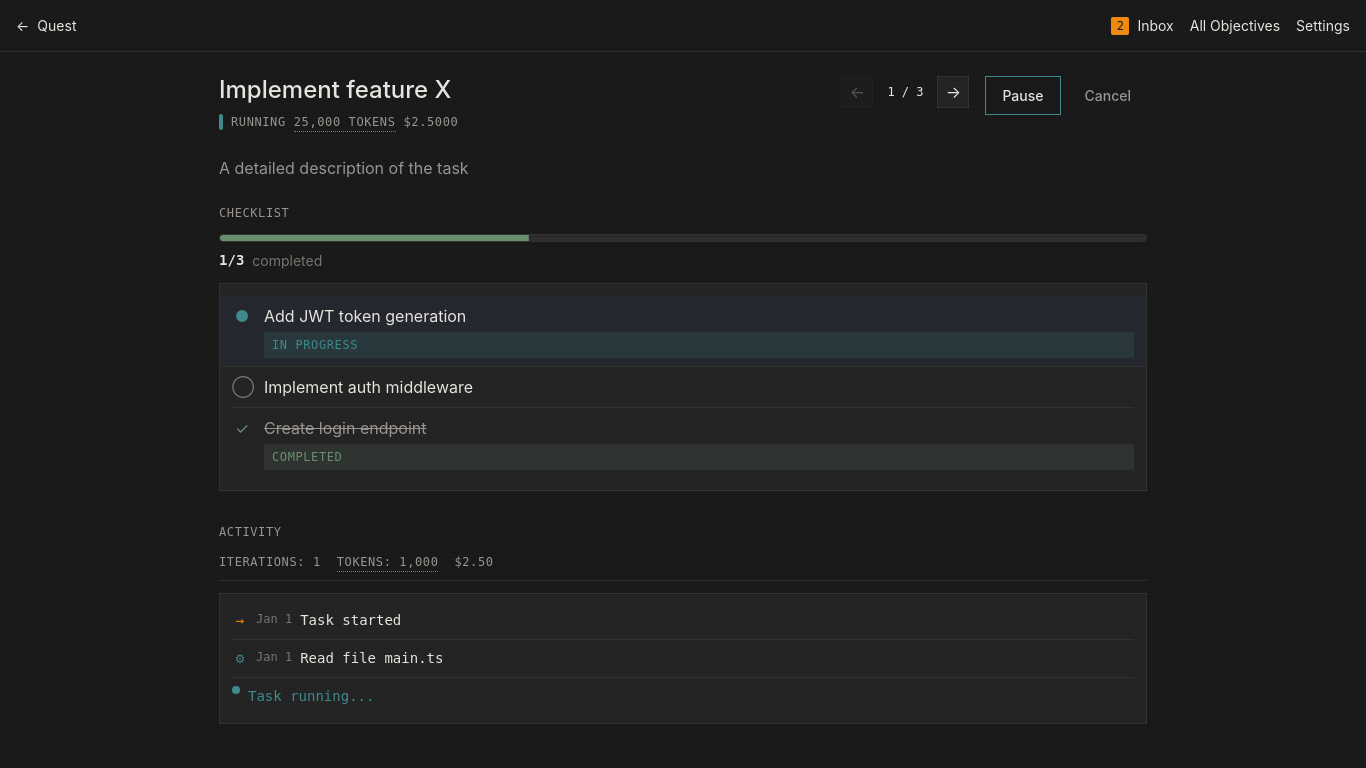
Test: ObjectiveDetail › task actions › shows success toast after pause
Click the button "Pause" at (1023, 96), box [986,76,1061,115]
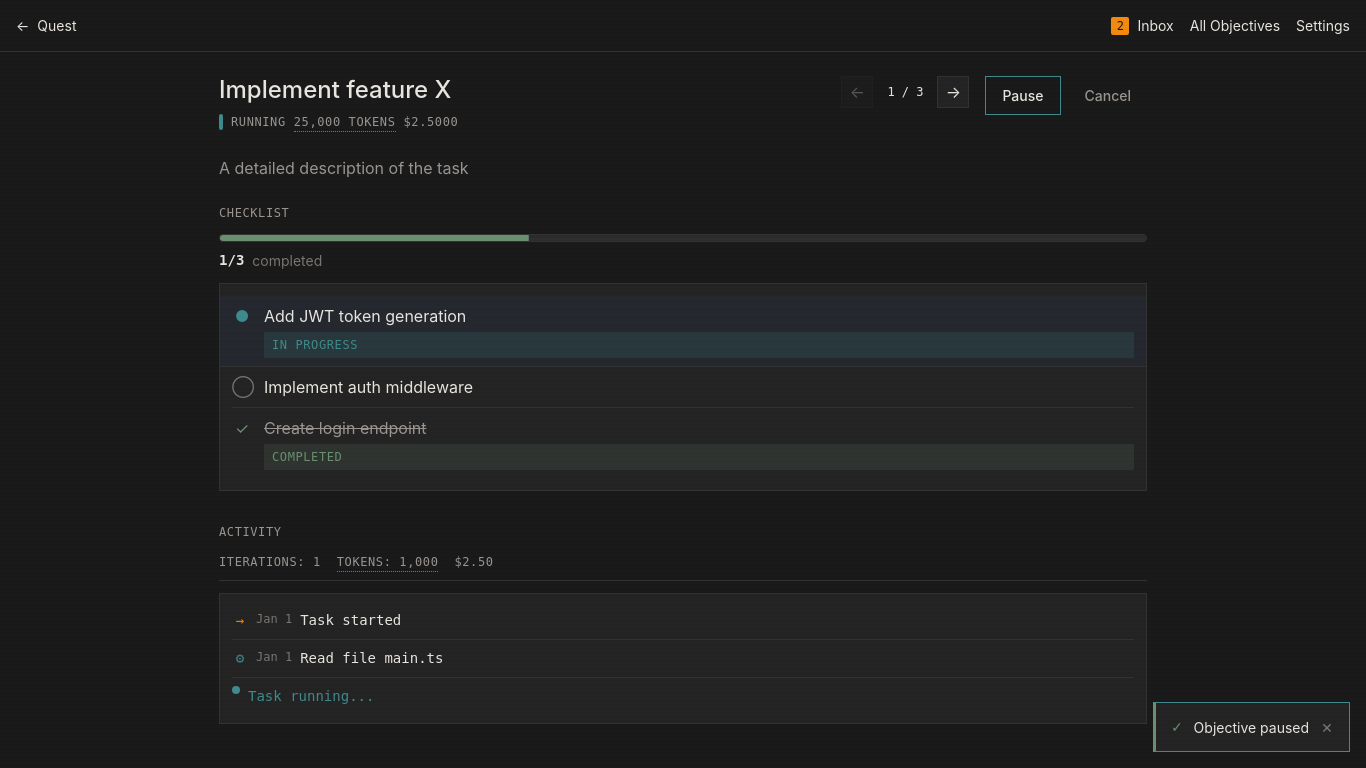
Expected: the text "Objective paused" is shown, [1194,716,1309,738]
